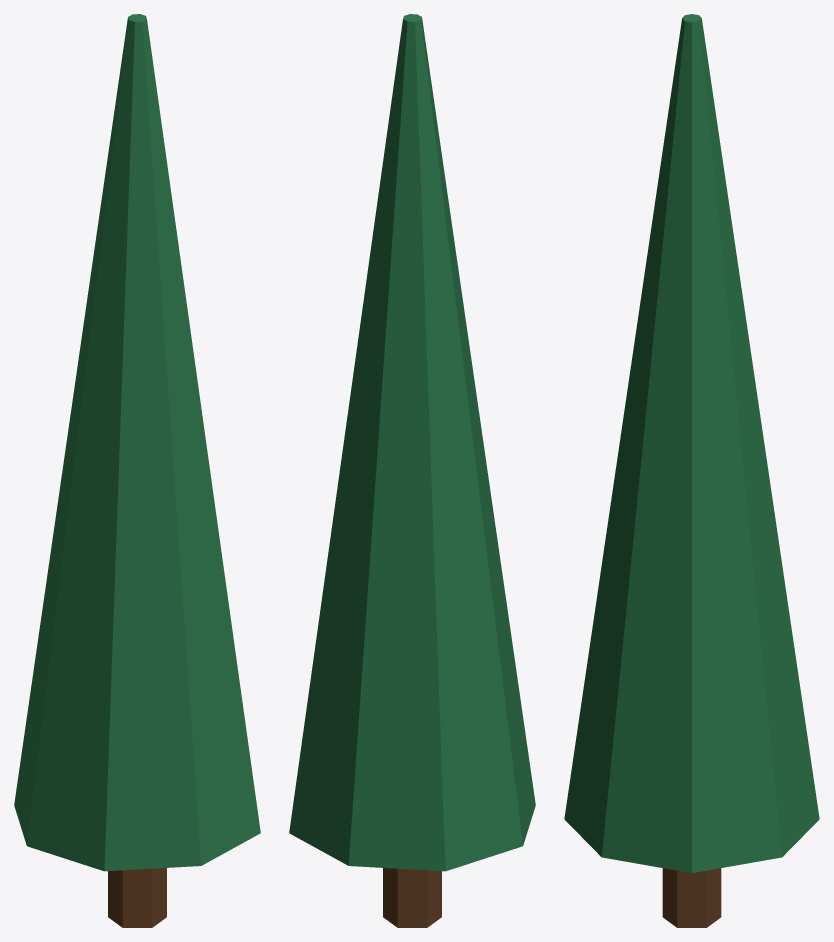
Rendered from mdl_z4_cipres.fbx.
The picture shows the model from 3 angles, left to right: view 1: azimuth 30°, elevation 25°; view 2: azimuth 150°, elevation 25°; view 3: azimuth 270°, elevation 25°; orthographic projection.
Parts seen in each view (by area): view 1: mdl_z4_cipres; view 2: mdl_z4_cipres; view 3: mdl_z4_cipres.
Part boxes in pixels (x1=…): mdl_z4_cipres: x1=14, y1=14, x2=260, y2=927; mdl_z4_cipres: x1=289, y1=14, x2=535, y2=927; mdl_z4_cipres: x1=564, y1=14, x2=819, y2=927.
Size of the model in its own units: 260 by 1010 by 260.
